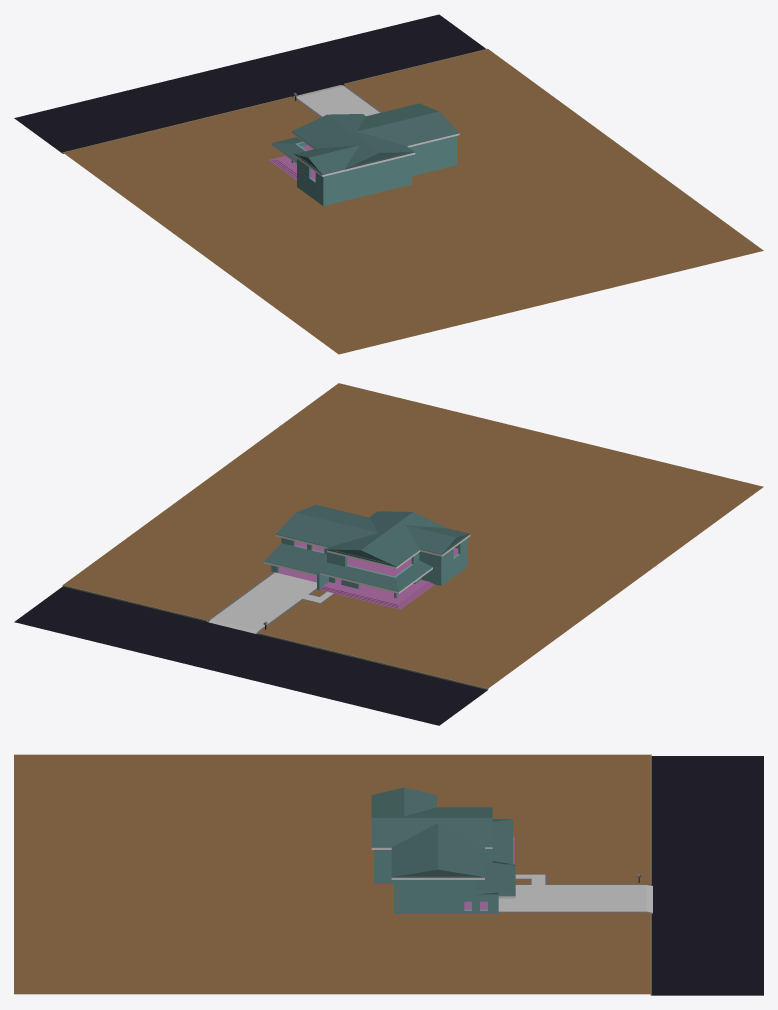
The model's file is synthHouse.glb.
The picture shows the model from 3 angles, top to bottom: view 1: azimuth 30°, elevation 25°; view 2: azimuth 150°, elevation 25°; view 3: azimuth 270°, elevation 25°; orthographic projection. The views are drawn at different scales.
Visible parts, largest first — view 1: Ground, Road, Roof, Floor1, Floor2, DriveIn; view 2: Ground, Road, Roof, Floor2, DriveIn, Floor1; view 3: Ground, Road, Roof, DriveIn, Floor2, Floor1.
Part boxes in pixels (x1,y1,x2,y2): Ground: (63, 49, 763, 354); Road: (14, 14, 487, 153); Roof: (292, 103, 459, 176); Floor1: (269, 143, 456, 205); Floor2: (272, 136, 456, 189); DriveIn: (293, 85, 381, 117); Ground: (63, 383, 763, 688); Road: (14, 585, 488, 725); Roof: (275, 504, 470, 568); Floor2: (264, 538, 467, 591); DriveIn: (207, 572, 334, 634); Floor1: (264, 550, 467, 609); Ground: (14, 754, 650, 994); Road: (650, 754, 763, 995); Roof: (371, 787, 492, 879); DriveIn: (498, 874, 652, 913); Floor2: (374, 819, 515, 895); Floor1: (374, 837, 515, 913).
Size of the model in its own units: 100 by 10.11 by 132.
